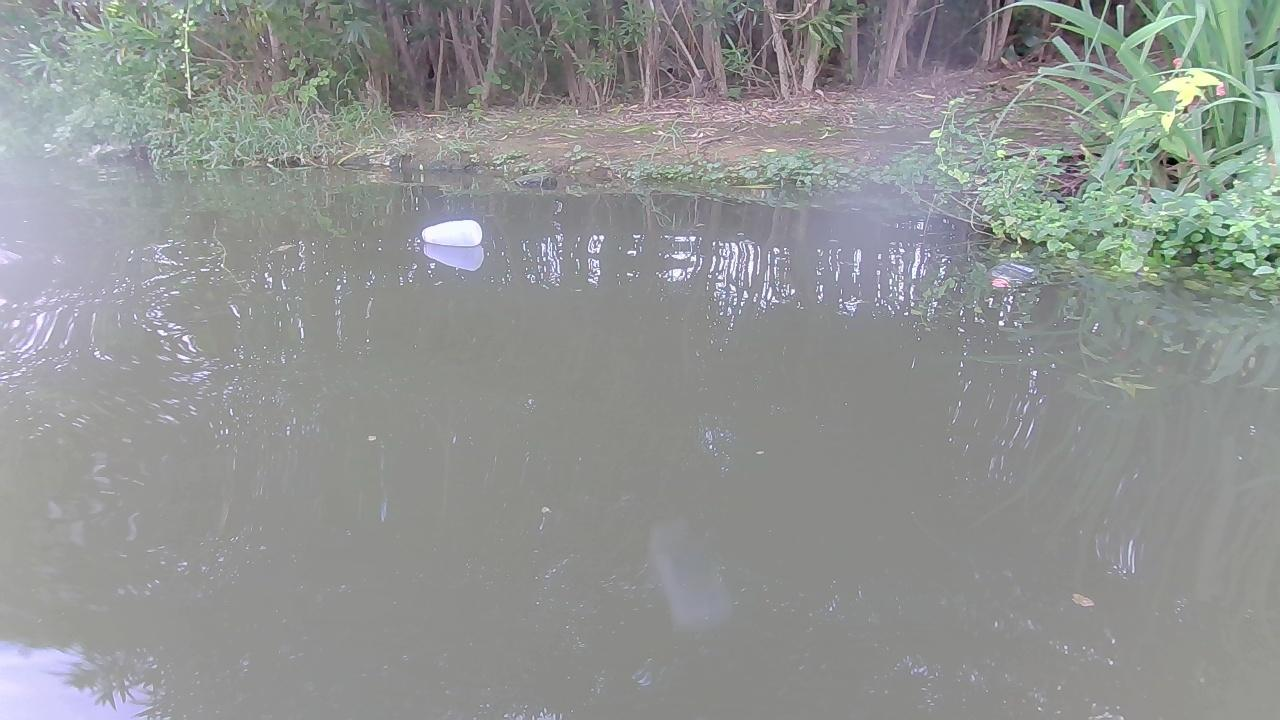bottle: (419, 215, 484, 252)
